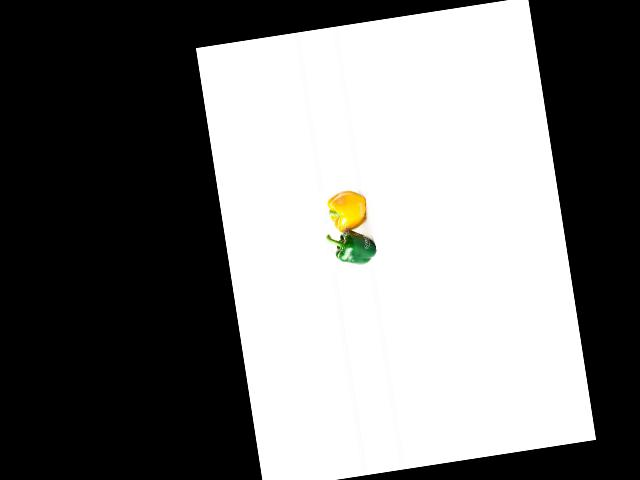bell_pepper: (329, 226, 384, 271)
